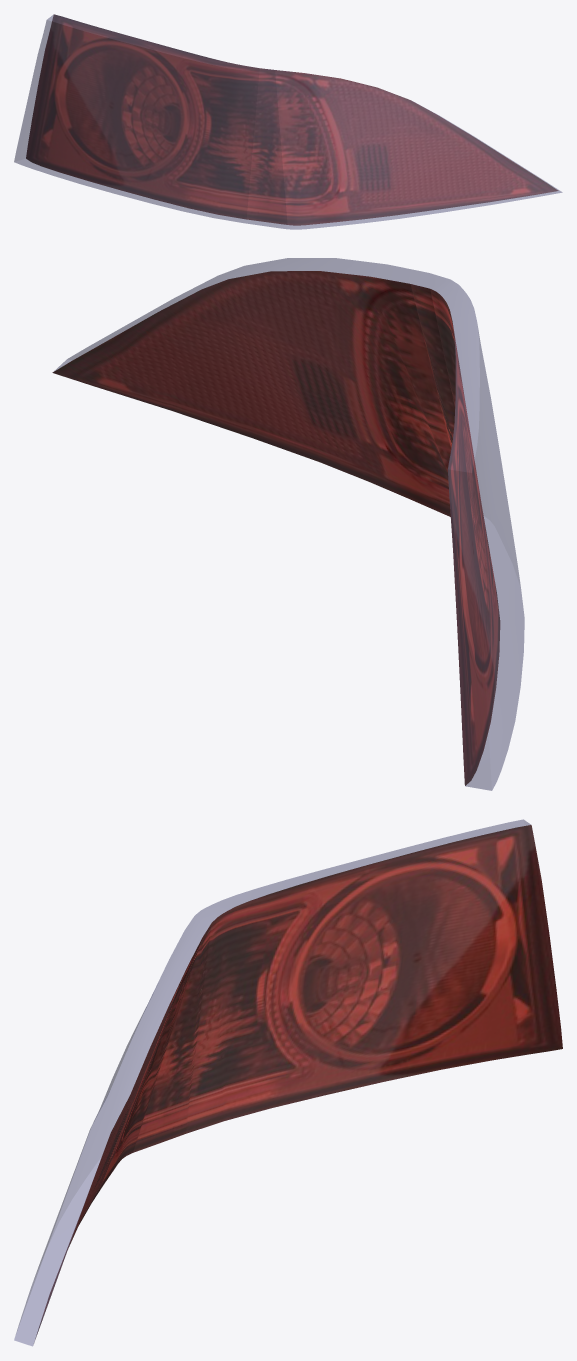
The picture shows the model from 3 angles, top to bottom: view 1: azimuth 30°, elevation 25°; view 2: azimuth 150°, elevation 25°; view 3: azimuth 270°, elevation 25°; orthographic projection. The views are drawn at different scales.
Parts seen in each view (by area): view 1: H128_541C_R_1_DTaSI_H128_541C_R, H128_541C_R_H128_541C_R_2_N; view 2: H128_541C_R_H128_541C_R_2_N, H128_541C_R_1_DTaSI_H128_541C_R; view 3: H128_541C_R_H128_541C_R_2_N, H128_541C_R_1_DTaSI_H128_541C_R.
Part boxes in pixels (box(x1,y1,x2,y2)): H128_541C_R_1_DTaSI_H128_541C_R: box(14, 14, 562, 229); H128_541C_R_H128_541C_R_2_N: box(26, 14, 558, 225); H128_541C_R_H128_541C_R_2_N: box(52, 271, 500, 785); H128_541C_R_1_DTaSI_H128_541C_R: box(53, 258, 524, 790); H128_541C_R_H128_541C_R_2_N: box(35, 825, 562, 1339); H128_541C_R_1_DTaSI_H128_541C_R: box(14, 819, 530, 1346).
Bounding box in the file's own units: 38.25 × 14.36 × 29.3.
